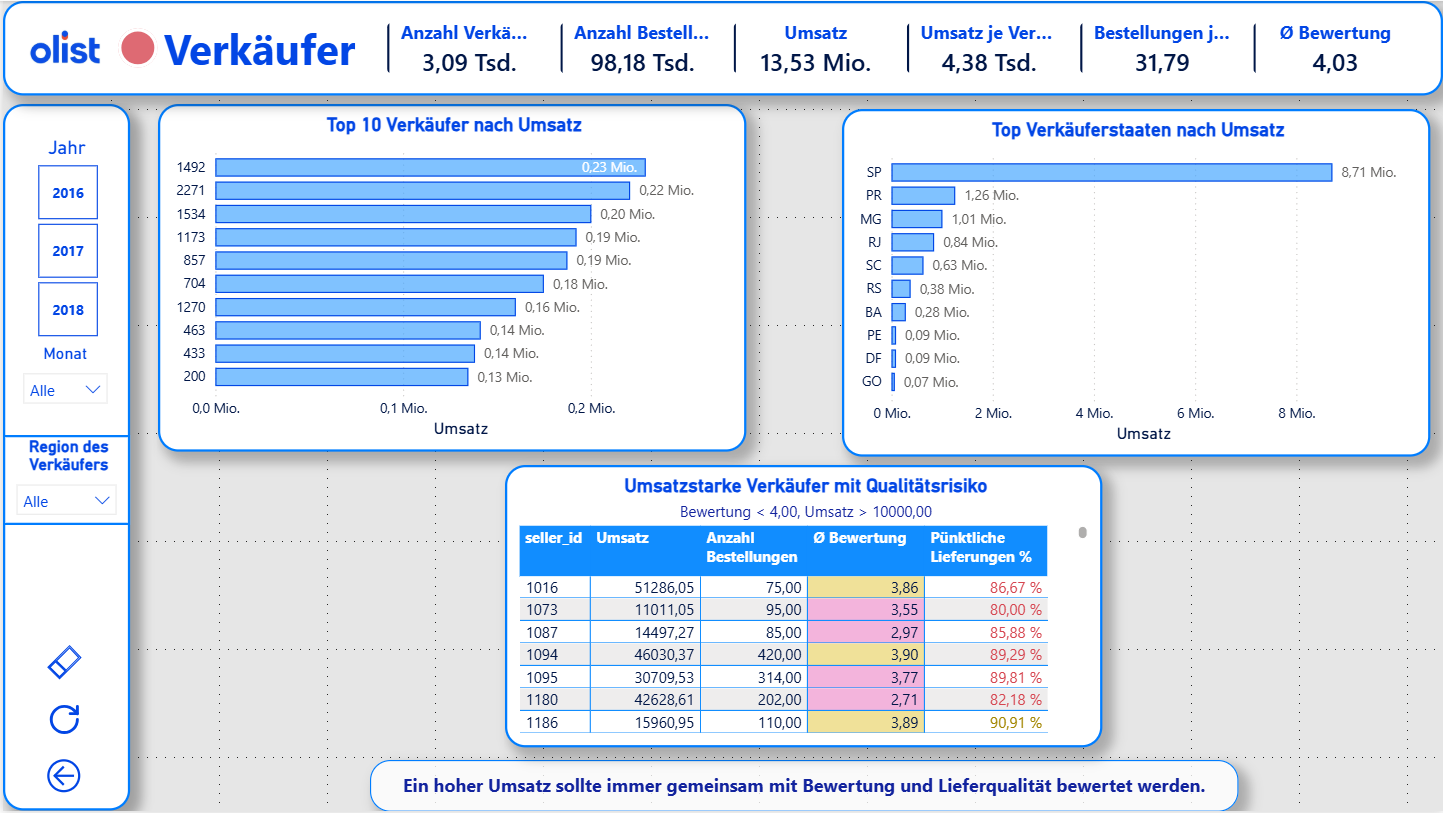

What the dashboard file says about the page in this screenshot:
{"tool":"powerbi","page":{"name":"Verkäufer 4.3","canvas":[1280,720],"ordinal":10},"visuals":[{"type":"barChart","title":"Top 10 Verkäufer nach Umsatz","fields":{"Y":["_Measures.Umsatz"],"Category":["Dim_Verkaeufer.seller_id"]},"box":[137.6,91.7,522.7,309.3],"z":0},{"type":"shape","box":[0,91.6,113,627.9],"z":1000},{"type":"shape","box":[0,0,1280,83.7],"z":2000},{"type":"image","box":[23.2,19.9,64,43],"z":3000},{"type":"shape","box":[102.6,24.3,35.3,35.3],"z":4000},{"type":"actionButton","box":[33.5,668.5,44,40.5],"z":5000},{"type":"slicer","title":"Jahr","fields":{"Values":["Dim_Datum.Jahr"]},"box":[5,120,103,185],"z":6000},{"type":"image","box":[39.7,623.4,29.6,30.8],"z":7000},{"type":"actionButton","box":[34.5,567.7,40,40],"z":8000},{"type":"slicer","title":"Monat","fields":{"Values":["Dim_Datum.Monat"]},"box":[8.3,304.7,94.6,79.3],"z":9000},{"type":"barChart","title":"Top Verkäuferstaaten nach Umsatz","fields":{"Y":["_Measures.Umsatz"],"Category":["Dim_Verkaeufer.seller_state"]},"box":[745.3,96,522.7,309.3],"z":10000},{"type":"textbox","title":"• Unvollständige Startdaten aus 2016 • Kaum Einfluss auf allgemeine KPI und kategorische Visualisierungen • Relevanter Einfluss auf Zeitreihen- und Time-Intelligence-Analysen","box":[325.8,674.9,771.9,45.6],"z":11000},{"type":"cardVisual","title":"Umsatz","fields":{"Data":["_Measures.Anzahl Verkäufer","_Measures.Anzahl Bestellungen","_Measures.Umsatz","_Measures.Umsatz je Verkäufer","_Measures.Bestellungen je Verkäufer","_Measures.AVG Bewertung"]},"box":[324.6,5.7,955.4,73.1],"z":12000},{"type":"pivotTable","title":"Umsatzstarke Verkäufer mit Qualitätsrisiko","fields":{"Values":["_Measures.Umsatz","_Measures.Anzahl Bestellungen","_Measures.AVG Bewertung","_Measures.Pünktliche Lieferungen %"],"Rows":["Dim_Verkaeufer.seller_id"]},"box":[446.6,412.2,531.1,251.5],"z":13000},{"type":"slicer","title":"Region des Verkäufers","fields":{"Values":["Dim_Verkaeufer.seller_state"]},"box":[0,386,113,80],"z":14000}]}

Visuals, with their boxes in screenshot pixels (x1, y1, x2, y2), scaled from the page's 1280x720 canvas onto the 1443x813 screenshot:
"Top 10 Verkäufer nach Umsatz" barChart: (155, 104, 744, 453)
shape: (0, 103, 127, 812)
shape: (0, 0, 1442, 95)
image: (26, 22, 98, 71)
shape: (116, 27, 155, 67)
actionButton: (38, 755, 87, 801)
"Jahr" slicer: (6, 136, 122, 344)
image: (45, 704, 78, 739)
actionButton: (39, 641, 84, 686)
"Monat" slicer: (9, 344, 116, 434)
"Top Verkäuferstaaten nach Umsatz" barChart: (840, 108, 1429, 458)
"• Unvollständige Startdaten aus 2016 • Kaum Einfluss auf allgemeine KPI und kategorische Visualisierungen • Relevanter Einfluss auf Zeitreihen- und Time-Intelligence-Analysen" textbox: (367, 762, 1237, 812)
"Umsatz" cardVisual: (366, 6, 1442, 89)
"Umsatzstarke Verkäufer mit Qualitätsrisiko" pivotTable: (503, 465, 1102, 749)
"Region des Verkäufers" slicer: (0, 436, 127, 526)
